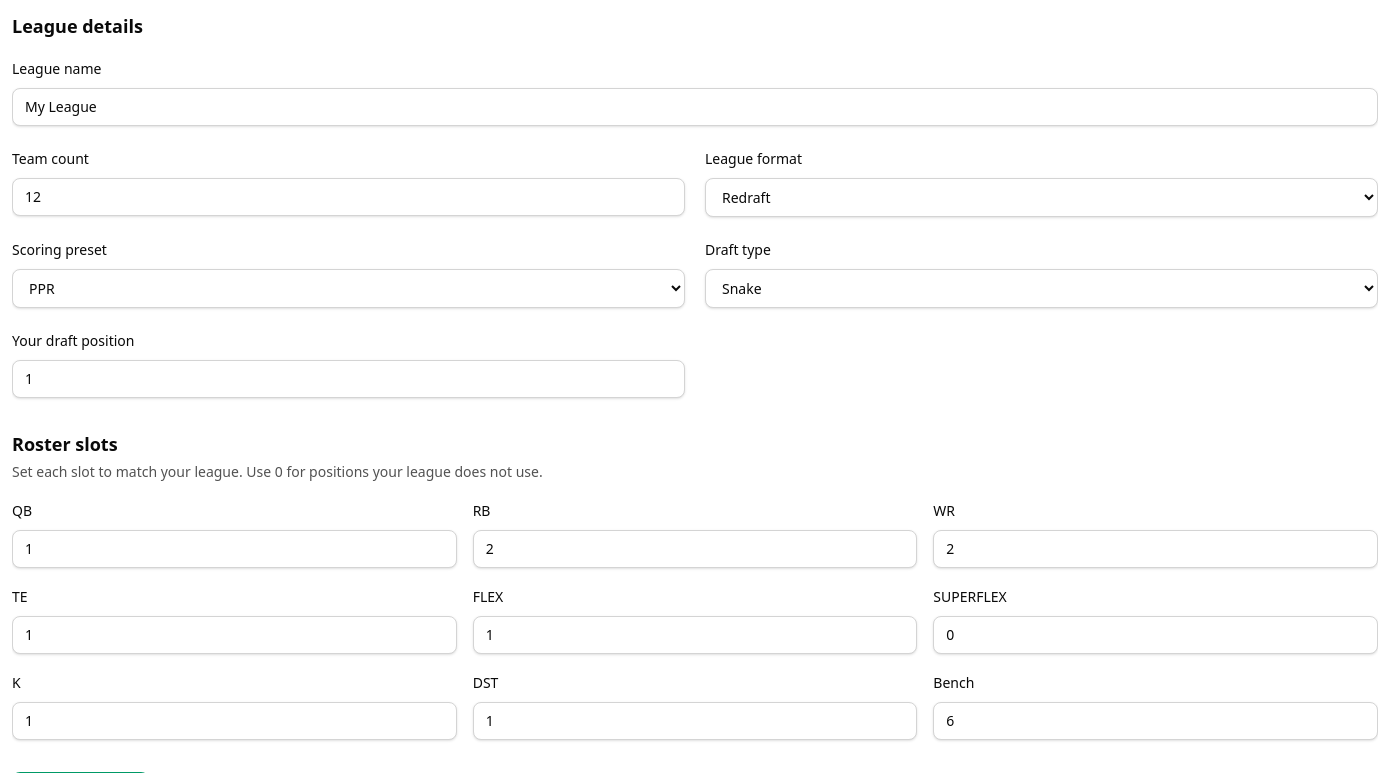
Test: LeagueConfigurationForm › captures the maximum when keeper format is selected
Step 1. Select "Keeper" in the dropdown labelled "League format" → (1042, 198), box [705,178,1378,217]
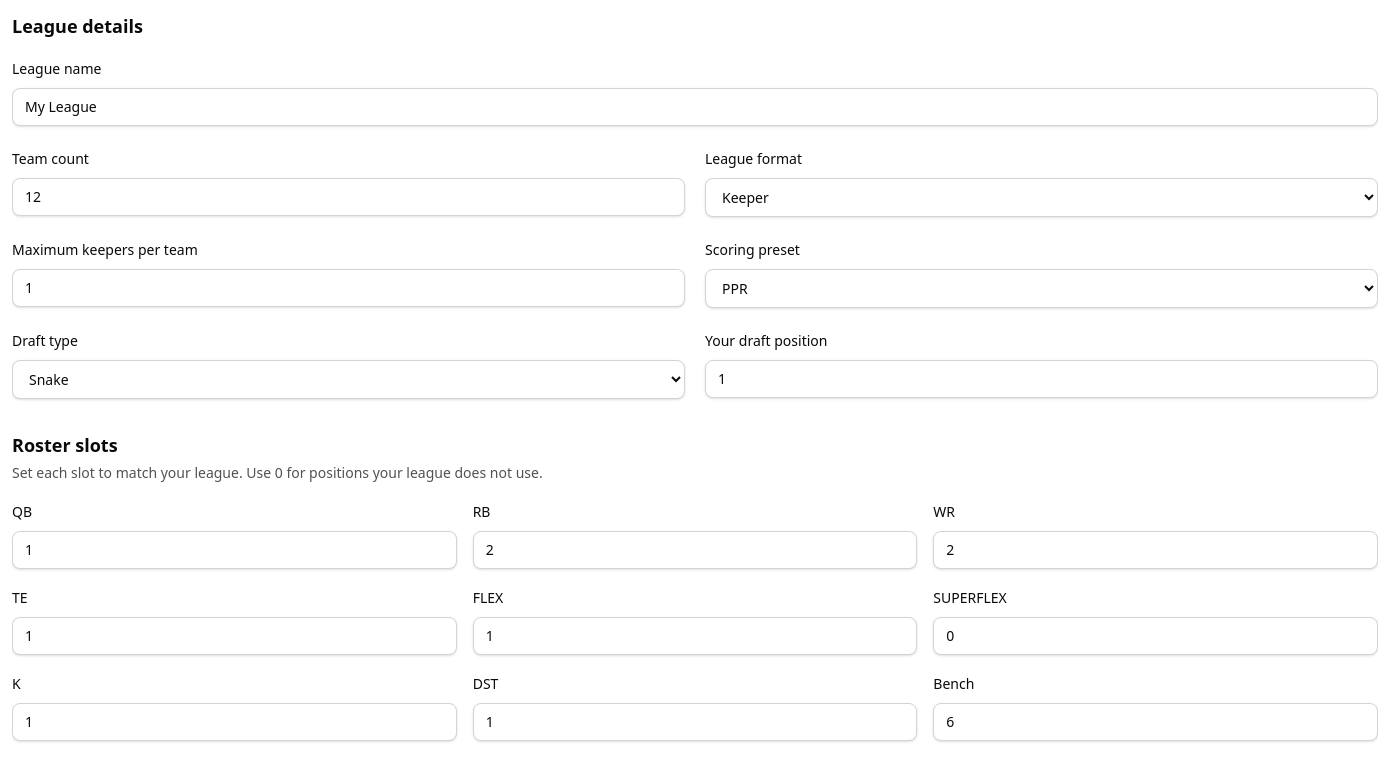
Check: the number field labelled "Maximum keepers per team" holds "1", box [12,269,685,307]
